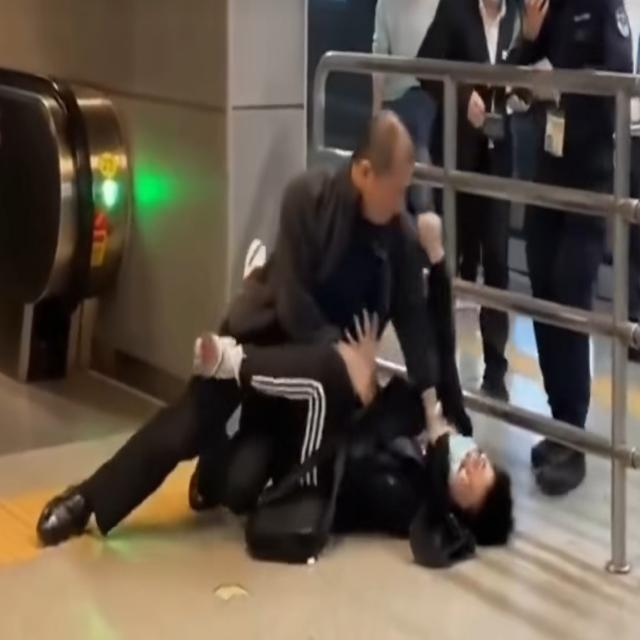fight: (209, 110, 520, 562)
